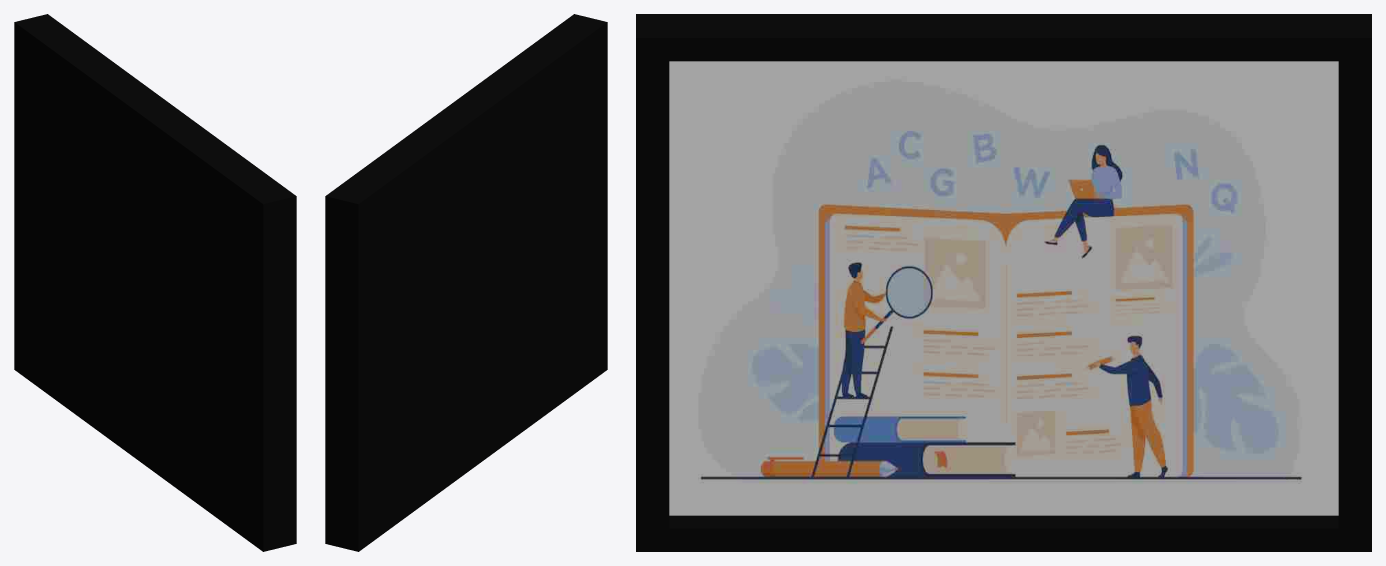
File: 3DLink_Bild.glb
3 renders of one model, left to right at view 1: azimuth 30°, elevation 25°; view 2: azimuth 150°, elevation 25°; view 3: azimuth 270°, elevation 25°, orthographic. The views are drawn at different scales.
Parts seen in each view (by area): view 1: Spot_Bild.010; view 2: Spot_Bild.010; view 3: Spot_Bild.010.
Part boxes in pixels (x1,y1,x2,y2): Spot_Bild.010: [14, 14, 296, 551]; Spot_Bild.010: [325, 14, 607, 551]; Spot_Bild.010: [636, 14, 1371, 551].
Size of the model in its own units: 0.1115 by 1.11 by 1.44.
2 materials, 1 textured.
